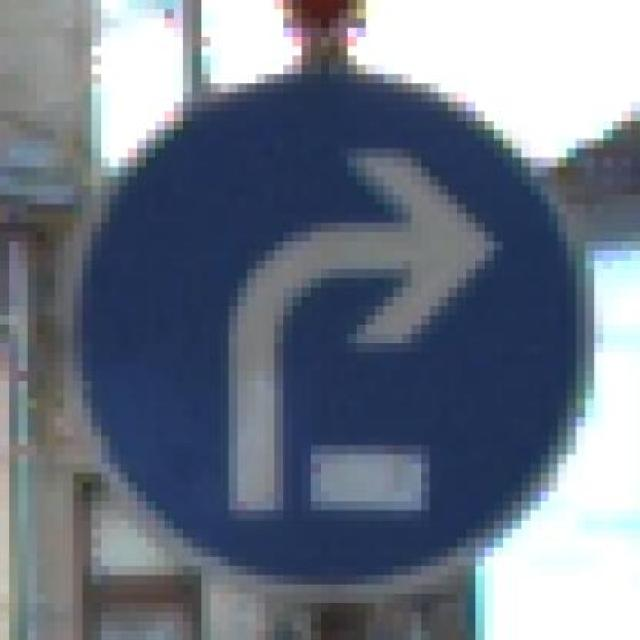Turn right ahead: (45, 55, 622, 603)
